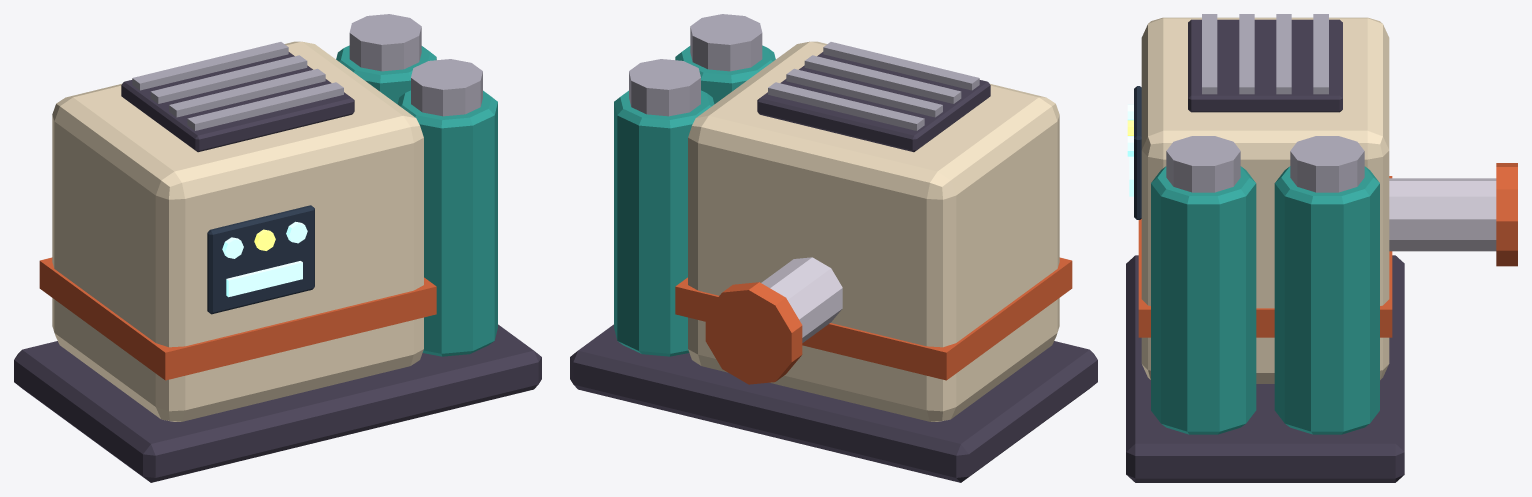
Rendered from MOONSHIFT_AIR_Main_Air_Unit.glb.
3 renders of one model, left to right at view 1: azimuth 30°, elevation 25°; view 2: azimuth 150°, elevation 25°; view 3: azimuth 270°, elevation 25°, orthographic.
Parts seen in each view (by area): view 1: MAU_Body, MAU_Base, MAU_Tank0, MAU_Stripe, MAU_TopGrille, MAU_Panel, MAU_TankCap1, MAU_TankCap0, MAU_TopSlat2, MAU_TopSlat1, MAU_TopSlat3, MAU_TopSlat0 (+2 smaller); view 2: MAU_Body, MAU_Base, MAU_Tank1, MAU_Stripe, MAU_PipeFlange, MAU_TopGrille, MAU_PipeOut, MAU_TankCap0, MAU_TankCap1, MAU_TopSlat1, MAU_TopSlat2, MAU_TopSlat0 (+2 smaller); view 3: MAU_Body, MAU_Tank0, MAU_Tank1, MAU_Base, MAU_TopGrille, MAU_PipeOut, MAU_TankCap0, MAU_TankCap1, MAU_PipeFlange, MAU_Stripe, MAU_TopSlat1, MAU_TopSlat2 (+3 smaller).
Boxes of the visible parts, <box> form: MAU_Body: <box>52,41,423,421</box>; MAU_Base: <box>14,324,541,482</box>; MAU_Tank0: <box>397,90,497,356</box>; MAU_Stripe: <box>39,257,436,380</box>; MAU_TopGrille: <box>121,52,354,152</box>; MAU_Panel: <box>207,205,314,314</box>; MAU_TankCap1: <box>349,14,421,71</box>; MAU_TankCap0: <box>411,59,482,116</box>; MAU_TopSlat2: <box>150,55,307,103</box>; MAU_TopSlat1: <box>169,68,325,117</box>; MAU_TopSlat3: <box>132,42,288,90</box>; MAU_TopSlat0: <box>187,82,343,130</box>; MAU_Body: <box>688,41,1059,421</box>; MAU_Base: <box>570,324,1097,482</box>; MAU_Tank1: <box>614,90,714,356</box>; MAU_Stripe: <box>675,257,1072,380</box>; MAU_PipeFlange: <box>705,282,802,384</box>; MAU_TopGrille: <box>757,52,990,152</box>; MAU_PipeOut: <box>761,257,842,342</box>; MAU_TankCap0: <box>690,14,762,71</box>; MAU_TankCap1: <box>629,59,700,116</box>; MAU_TopSlat1: <box>804,55,961,103</box>; MAU_TopSlat2: <box>786,68,942,117</box>; MAU_TopSlat0: <box>823,42,979,90</box>; MAU_Body: <box>1141,17,1389,383</box>; MAU_Tank0: <box>1151,166,1256,434</box>; MAU_Tank1: <box>1274,166,1379,434</box>; MAU_Base: <box>1126,255,1404,482</box>; MAU_TopGrille: <box>1188,19,1342,112</box>; MAU_PipeOut: <box>1389,178,1496,251</box>; MAU_TankCap0: <box>1166,136,1240,192</box>; MAU_TankCap1: <box>1290,136,1364,192</box>; MAU_PipeFlange: <box>1496,163,1517,266</box>; MAU_Stripe: <box>1138,176,1392,337</box>; MAU_TopSlat1: <box>1239,14,1254,94</box>; MAU_TopSlat2: <box>1276,14,1291,94</box>.
Bounding box in the file's own units: 1.5 × 1.14 × 1.26.
